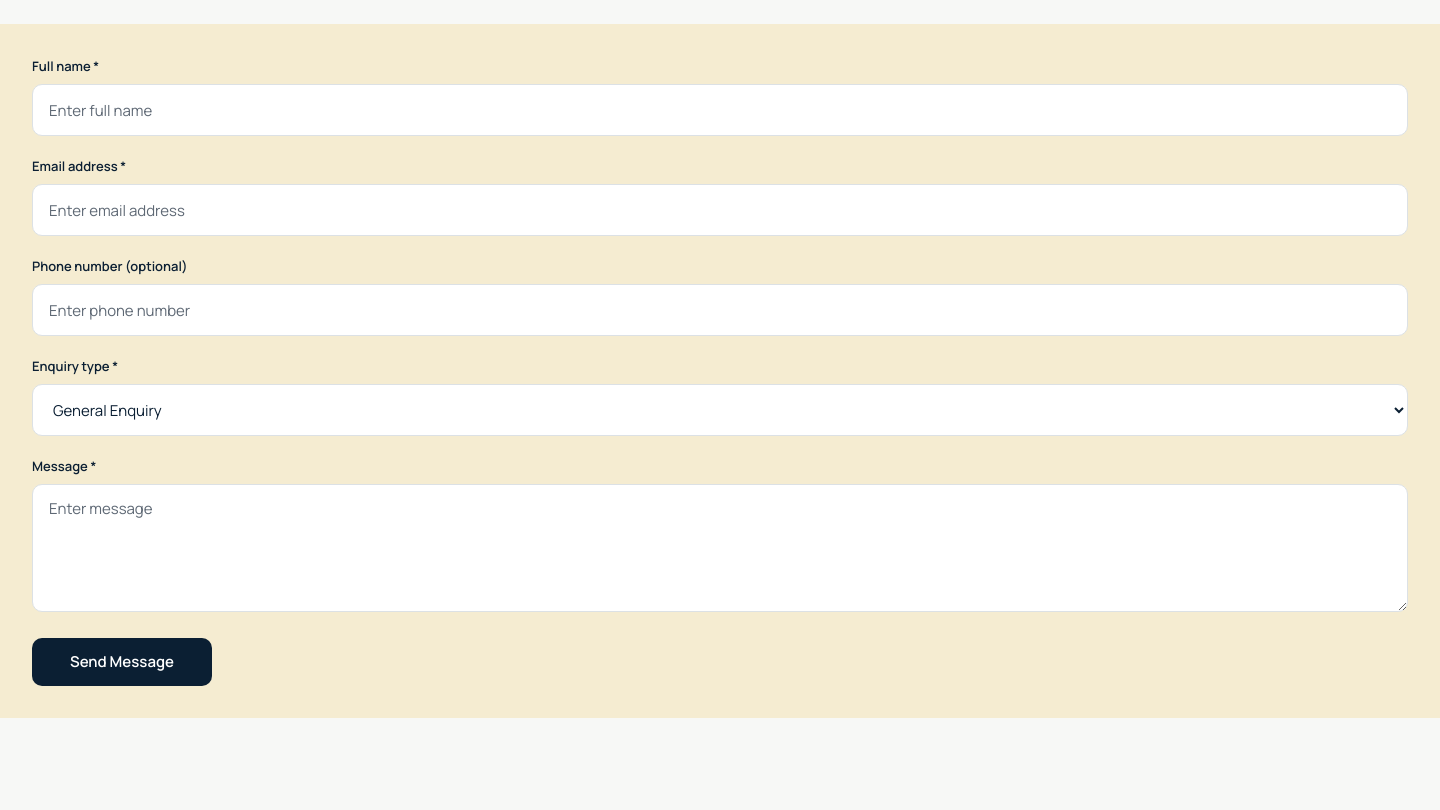
Test case: contact and renewal request UX › shows contact errors, focuses the invalid field and preserves entered text
Type "Test Visitor" into the field labelled "Full name *" at coordinates (720, 110), box 32,84 -> 1408,136
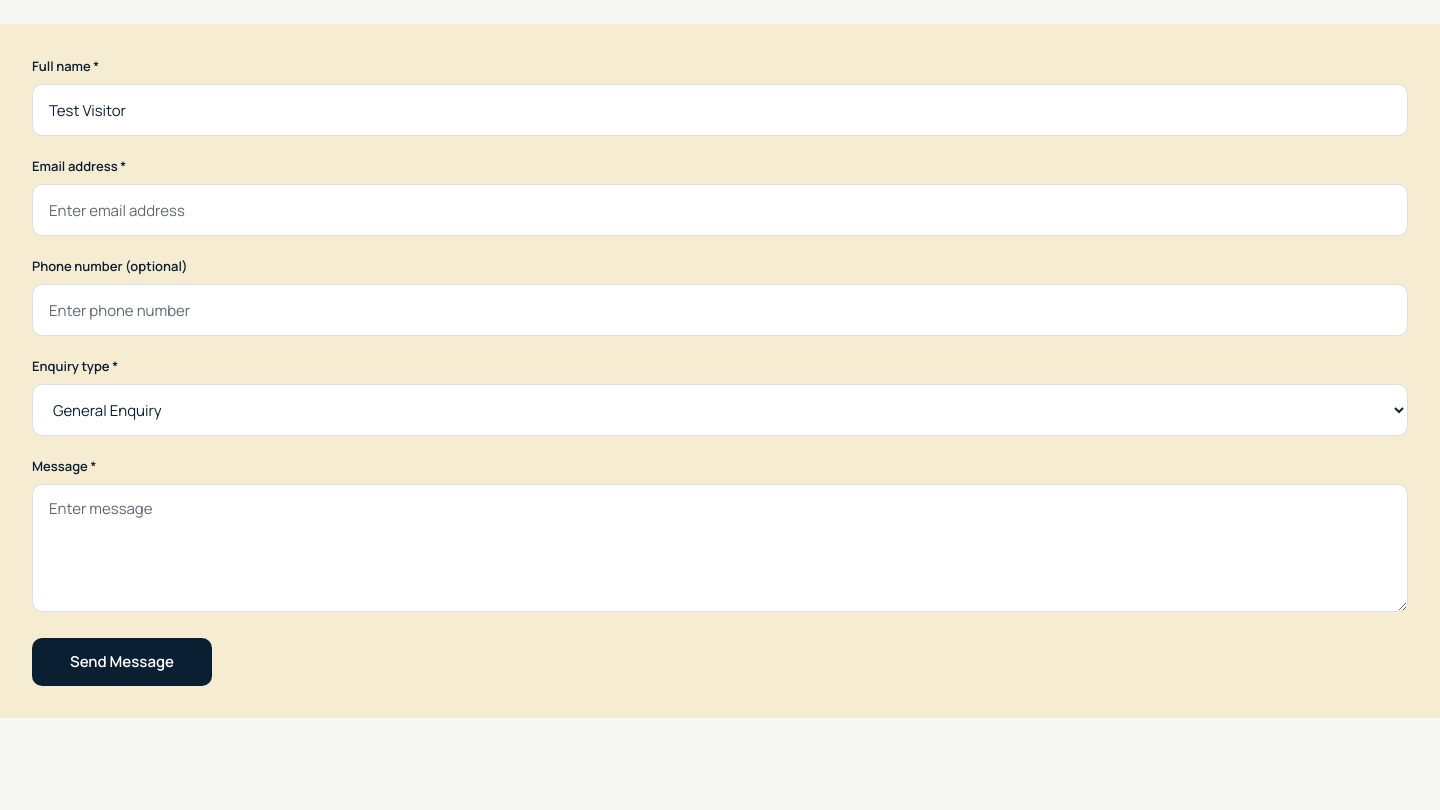
Type "invalid" into the field labelled "Email address *" at coordinates (720, 210), box 32,184 -> 1408,236
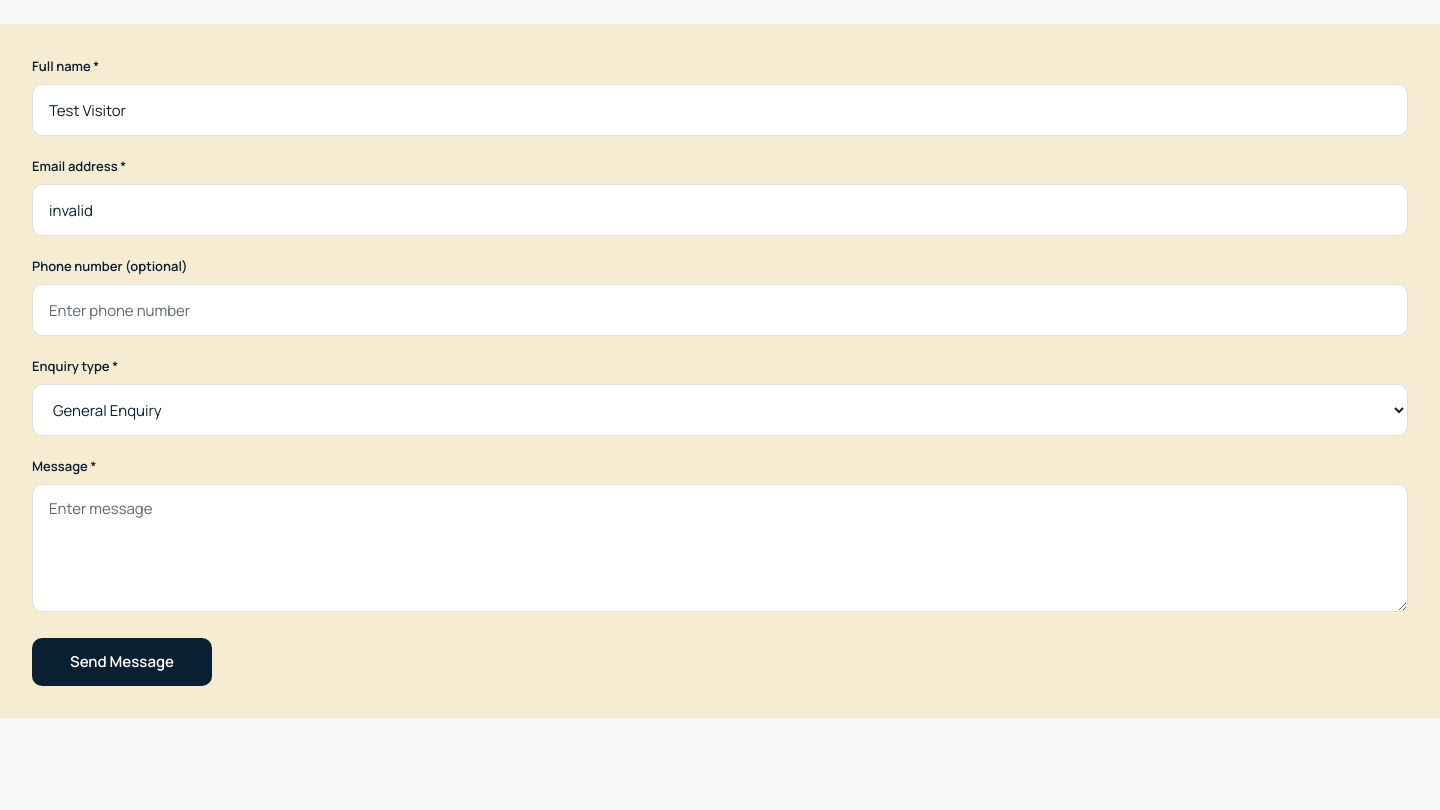
Submit the form
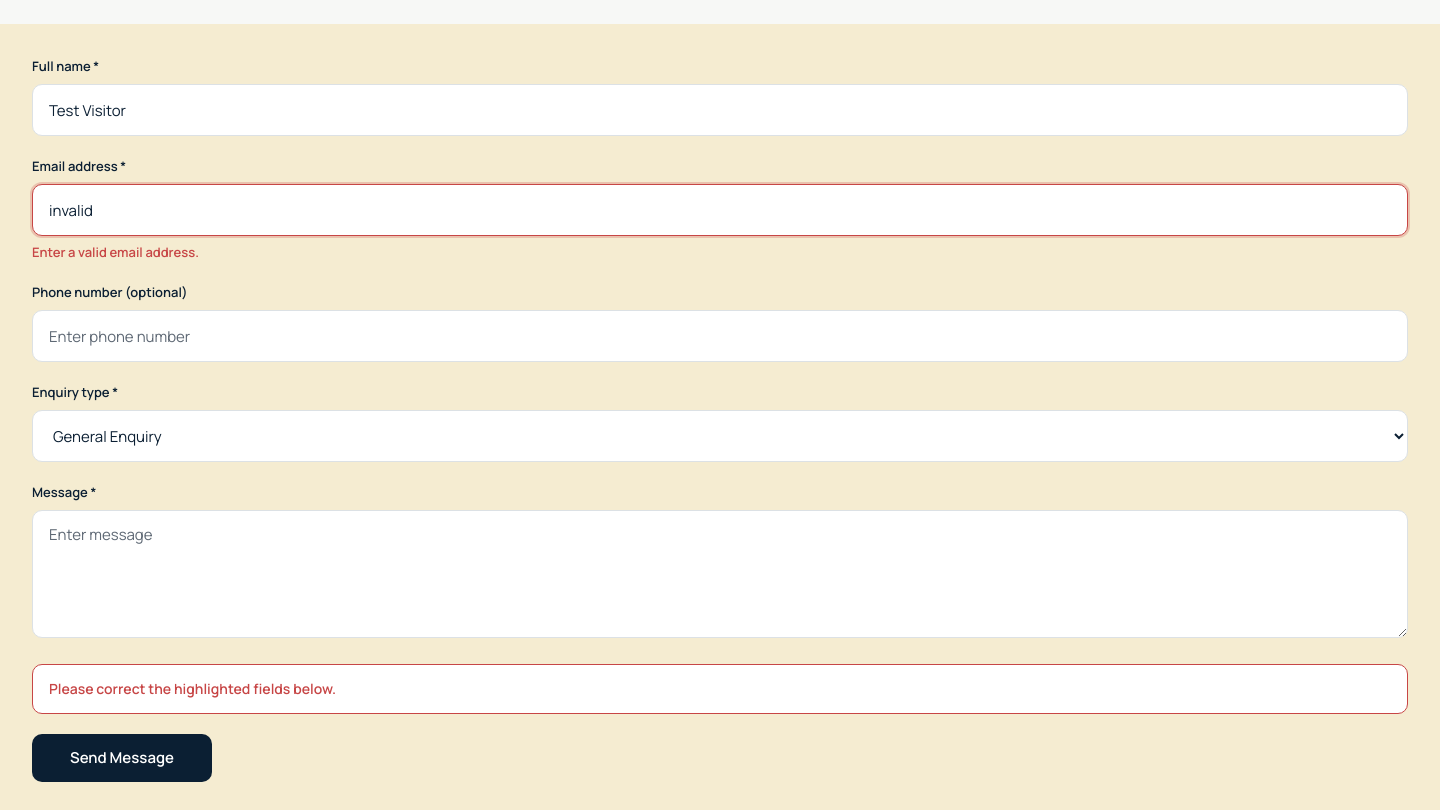
Expected: the text "Enter a valid email address." is shown, 32,243 -> 199,261
